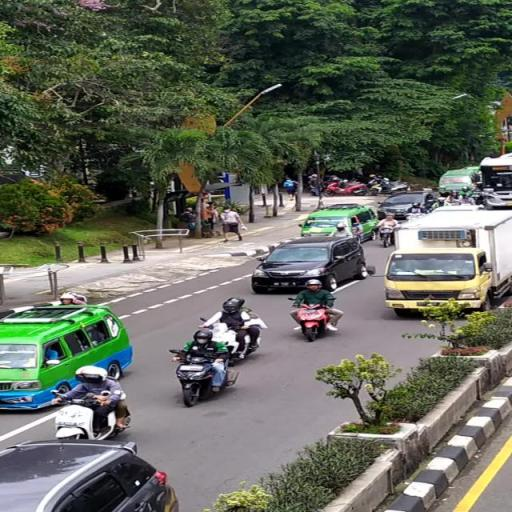Helmet: (72, 364, 110, 388), (194, 327, 212, 350), (223, 296, 245, 314), (303, 276, 325, 294)
Motor: (177, 362, 239, 404), (60, 409, 132, 444), (298, 308, 329, 342)
